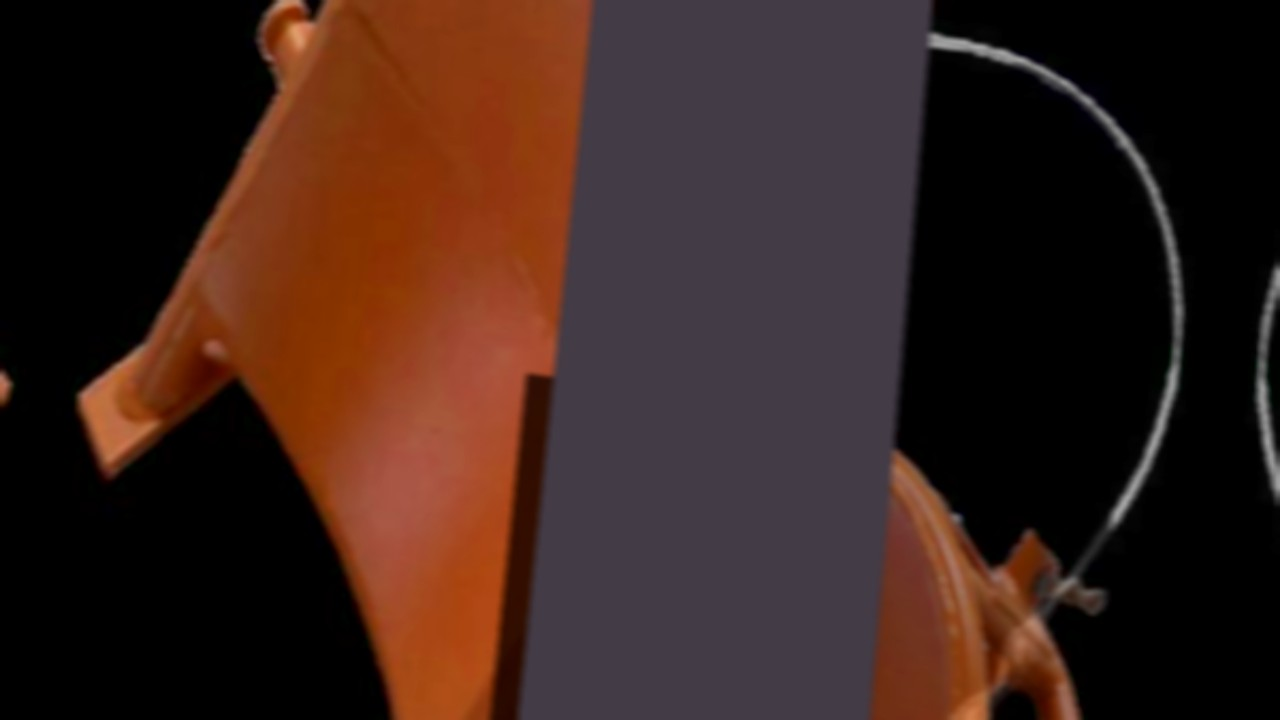chock: (0, 0, 1015, 720), (398, 371, 1183, 720)
